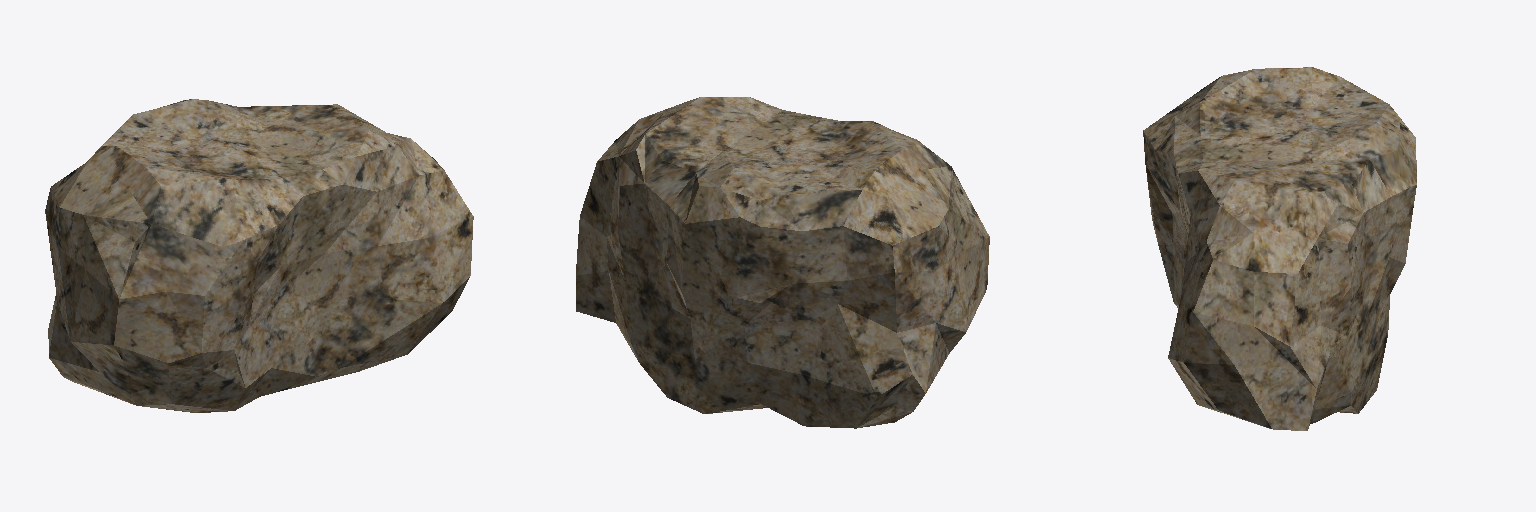
3 views of the same model, side by side, from view 1: azimuth 30°, elevation 25°; view 2: azimuth 150°, elevation 25°; view 3: azimuth 270°, elevation 25° (orthographic).
Parts seen in each view (by area): view 1: Rock03v3_Rock03.003; view 2: Rock03v3_Rock03.003; view 3: Rock03v3_Rock03.003.
Boxes of the visible parts, x1=… form: Rock03v3_Rock03.003: x1=45, y1=99, x2=473, y2=412; Rock03v3_Rock03.003: x1=576, y1=97, x2=989, y2=428; Rock03v3_Rock03.003: x1=1143, y1=67, x2=1416, y2=430.
Size of the model in its own units: 68.53 by 43.77 by 42.32.
Materials: 1 (1 with a texture image).